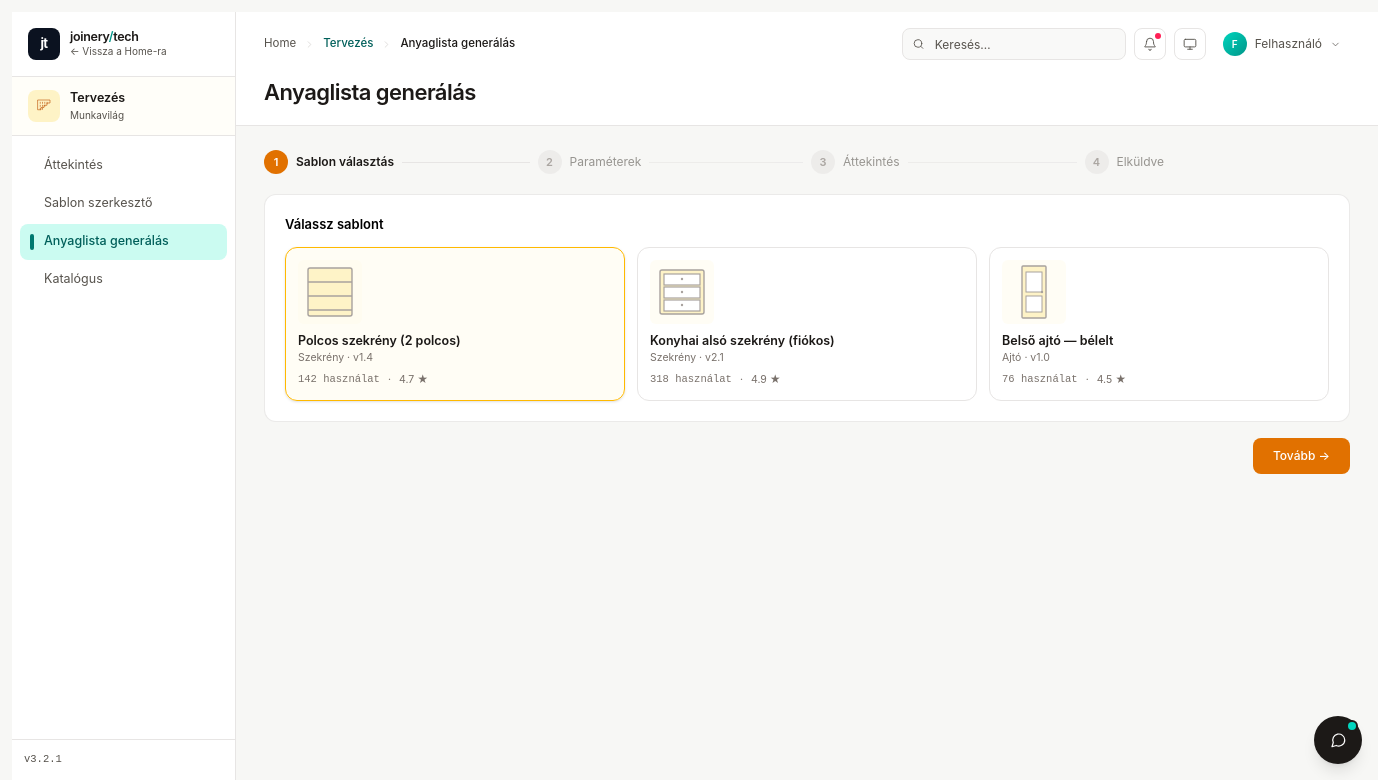
Test: DesignPage › shows Egyedi hozzáadása button in step 2
Step 1. Click the button "Tovább →" → x=1302, y=456, box [1253, 438, 1350, 474]
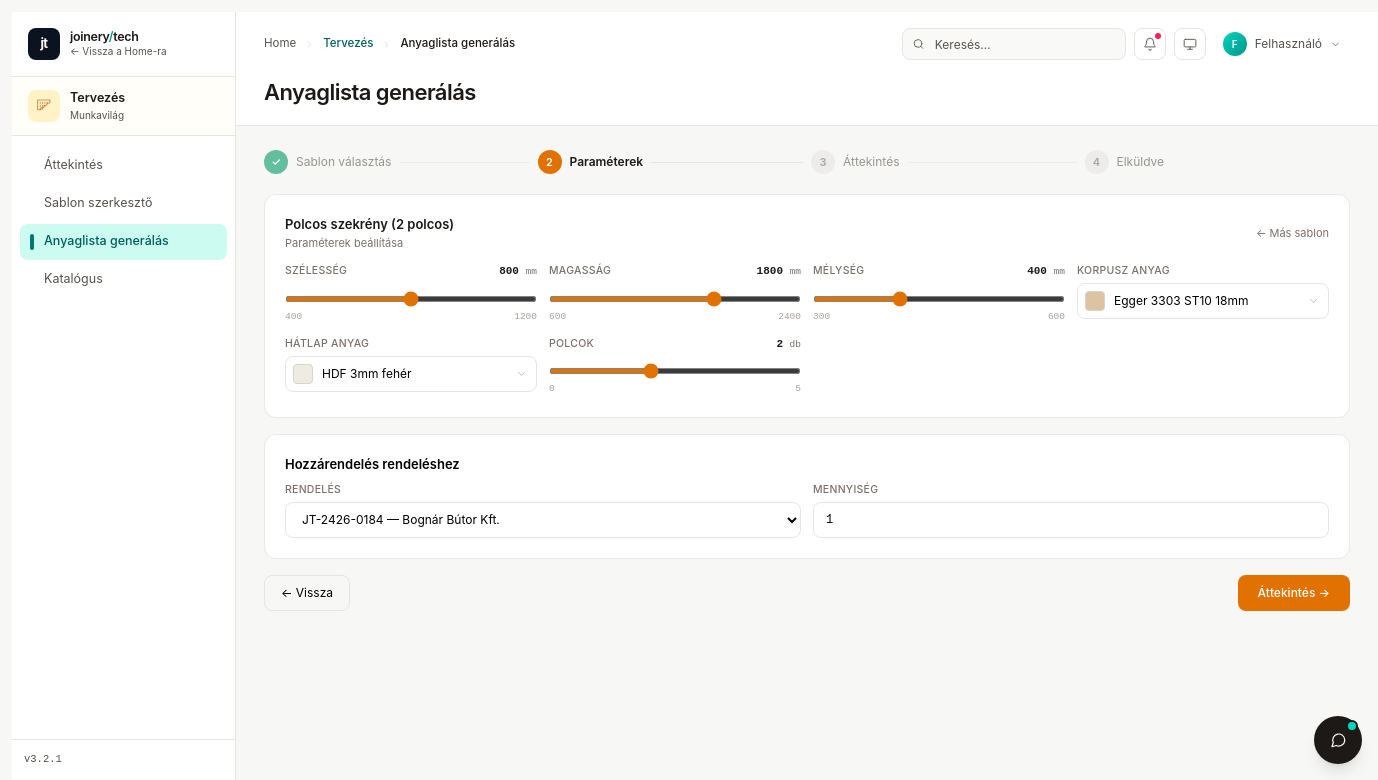
Step 2. Click the button "Áttekintés →" → x=1294, y=593, box [1238, 575, 1350, 611]
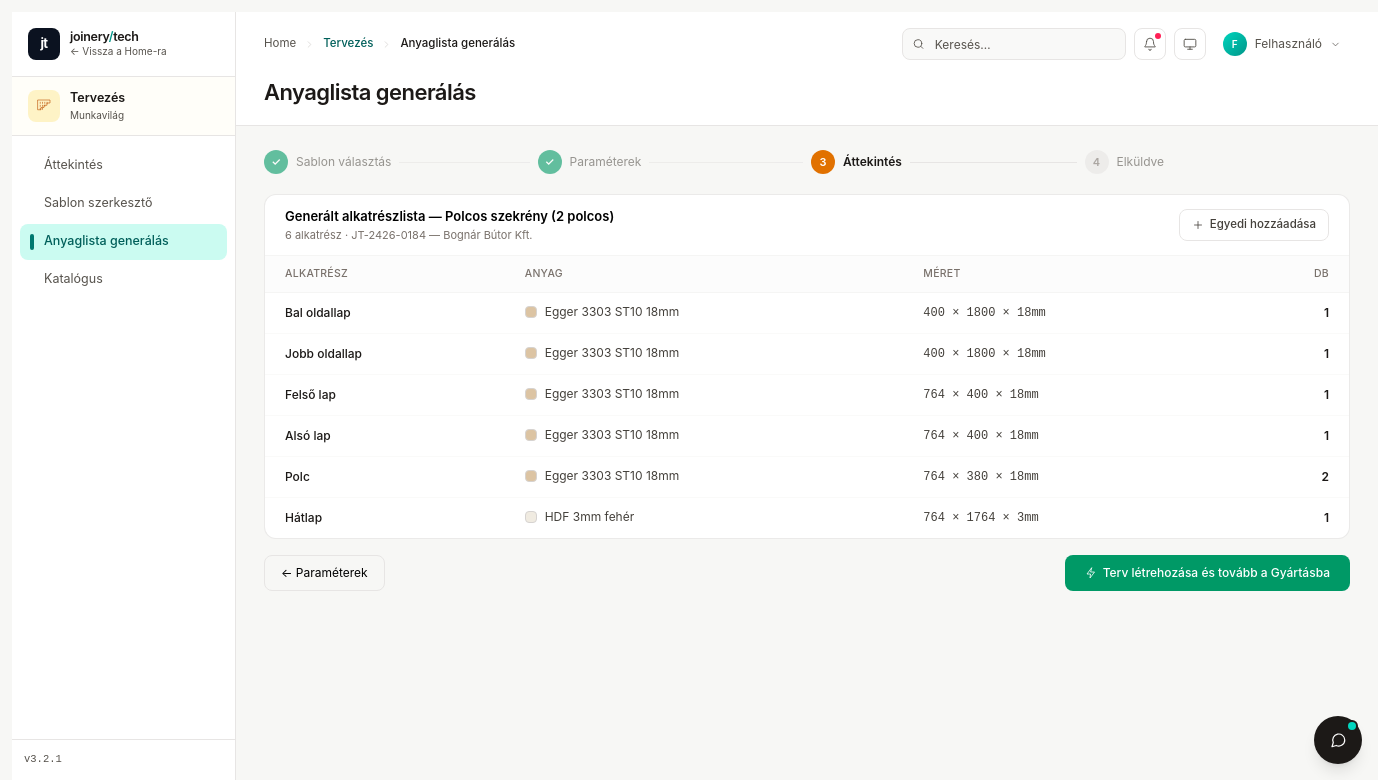
Now the button "Egyedi hozzáadása" is shown, box [1179, 209, 1329, 241]
